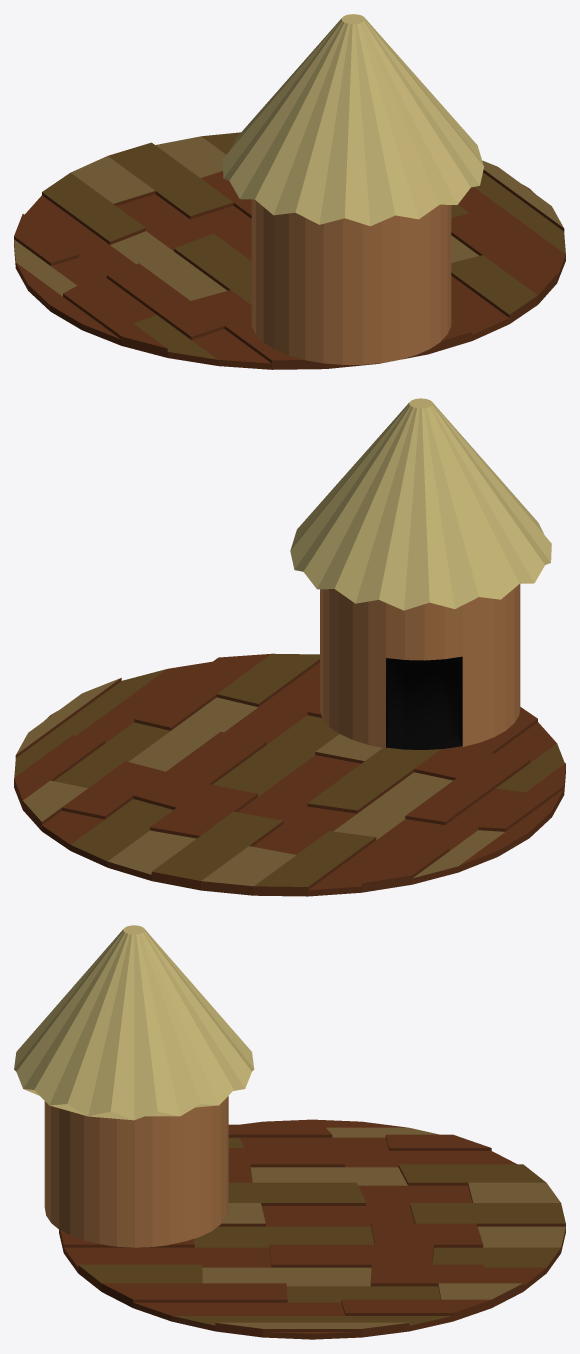
Rendered from bungalow.fbx.
3 views of the same model, one above another, from view 1: azimuth 30°, elevation 25°; view 2: azimuth 150°, elevation 25°; view 3: azimuth 270°, elevation 25° (orthographic). The views are drawn at different scales.
Parts seen in each view (by area): view 1: Cylinder; view 2: Cylinder; view 3: Cylinder.
Part boxes in pixels (x1=…): Cylinder: x1=14, y1=14, x2=565, y2=369; Cylinder: x1=14, y1=398, x2=565, y2=896; Cylinder: x1=14, y1=925, x2=565, y2=1339.
Bounding box in the file's own units: 3905 × 2442 × 4251.
